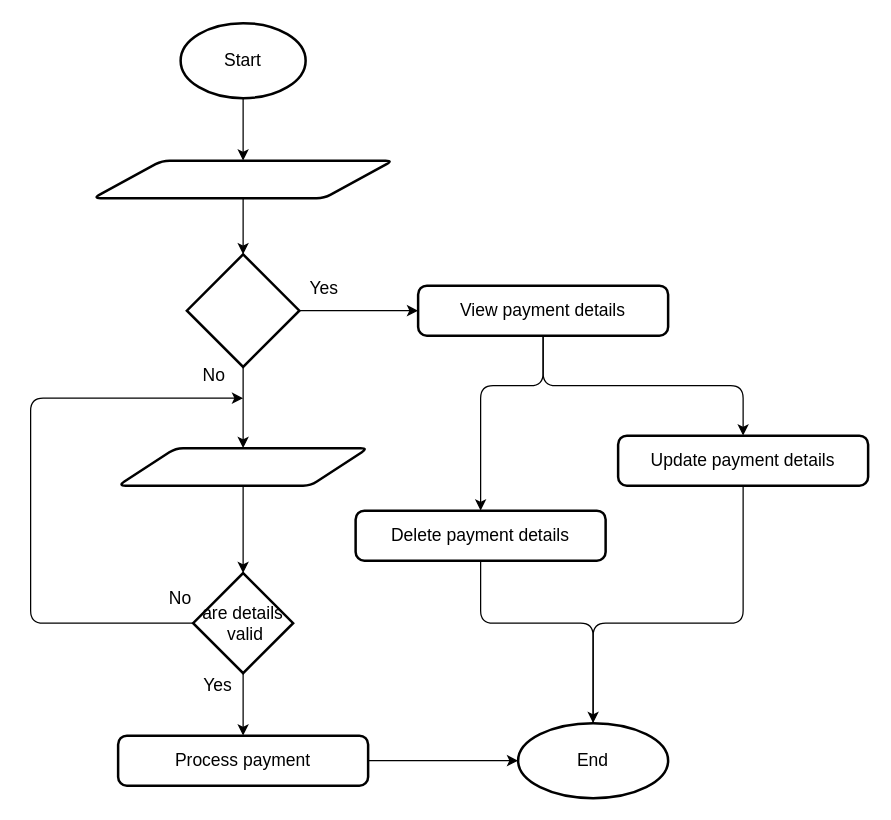
Image size: 891x820. Some labels were removed from this diagram. The box of each missing label's shape, as (x1, y1, x2, y2) in pixels:
Display payment UI: (91, 159, 394, 199)
Insert payment details: (116, 446, 369, 486)
Is user an admin?: (185, 252, 300, 368)
